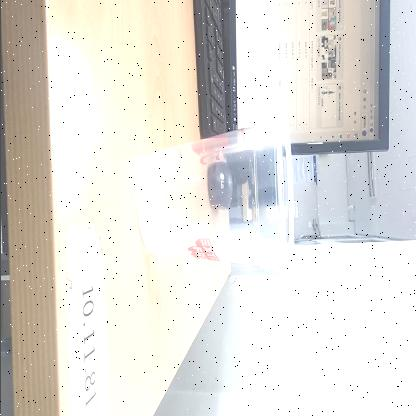Others: (135, 103, 293, 283)
